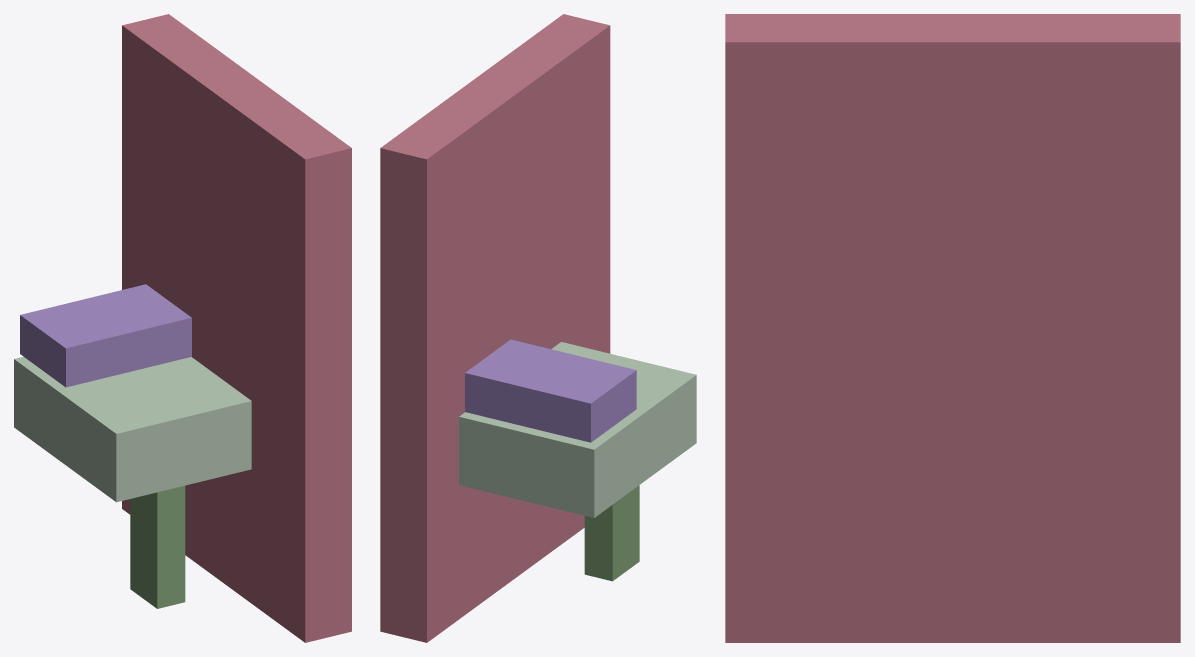
File: 239539_pred.glb
3 renders of one model, left to right at view 1: azimuth 30°, elevation 25°; view 2: azimuth 150°, elevation 25°; view 3: azimuth 270°, elevation 25°, orthographic. The views are drawn at different scales.
Parts seen in each view (by area): view 1: world; view 2: world; view 3: world.
Part boxes in pixels (left/top/right/bottom): world: left=14, top=14, right=351, bottom=642; world: left=380, top=14, right=696, bottom=642; world: left=725, top=14, right=1180, bottom=642.
Size of the model in its own units: 3.95 by 9.9 by 6.8.
